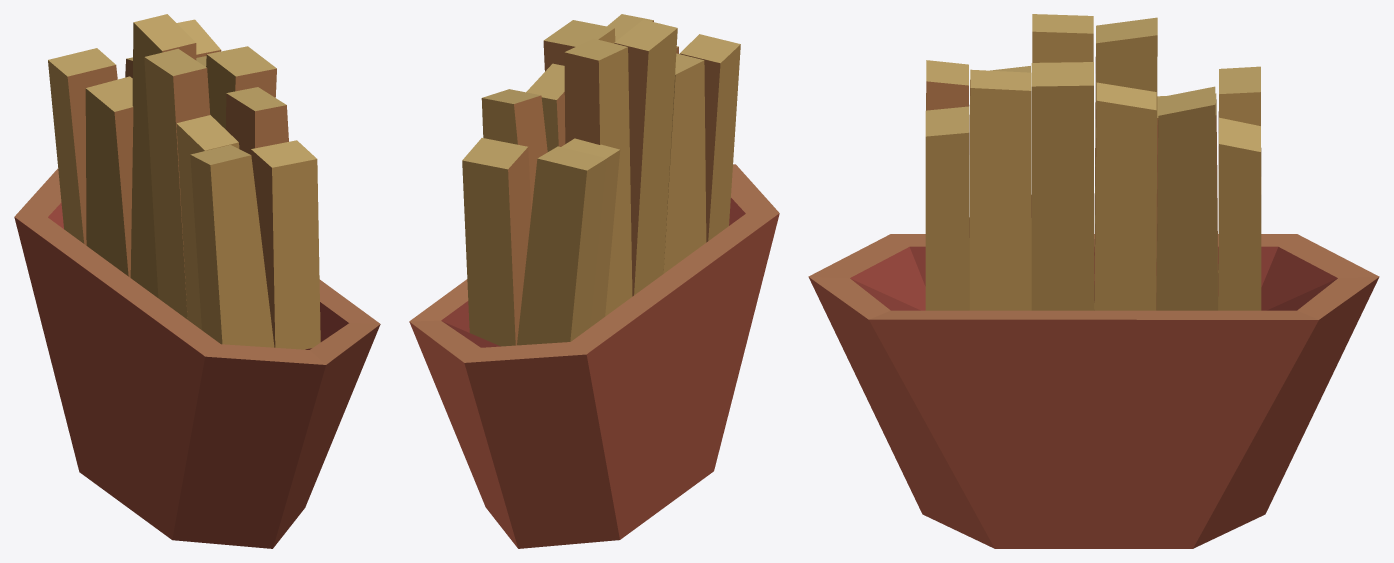
The model's file is Kentang.fbx.
The picture shows the model from 3 angles, left to right: view 1: azimuth 30°, elevation 25°; view 2: azimuth 150°, elevation 25°; view 3: azimuth 270°, elevation 25°; orthographic projection. The views are drawn at different scales.
Visible parts, largest first — view 1: 7 kentang; view 2: 7 kentang; view 3: 7 kentang.
Part boxes in pixels (x1,y1,x2,y2): 7 kentang: [14, 14, 380, 548]; 7 kentang: [409, 14, 779, 548]; 7 kentang: [808, 14, 1379, 548].
Size of the model in its own units: 11.03 by 28.89 by 31.03.
